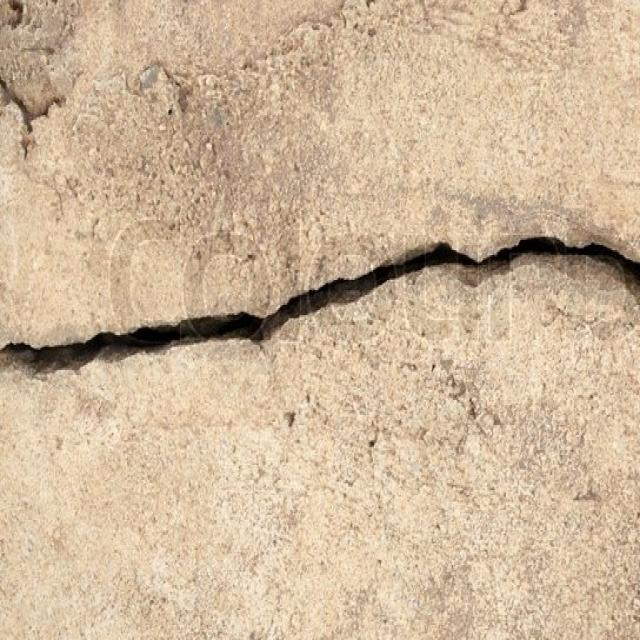Transverse: (1, 210, 640, 407)
